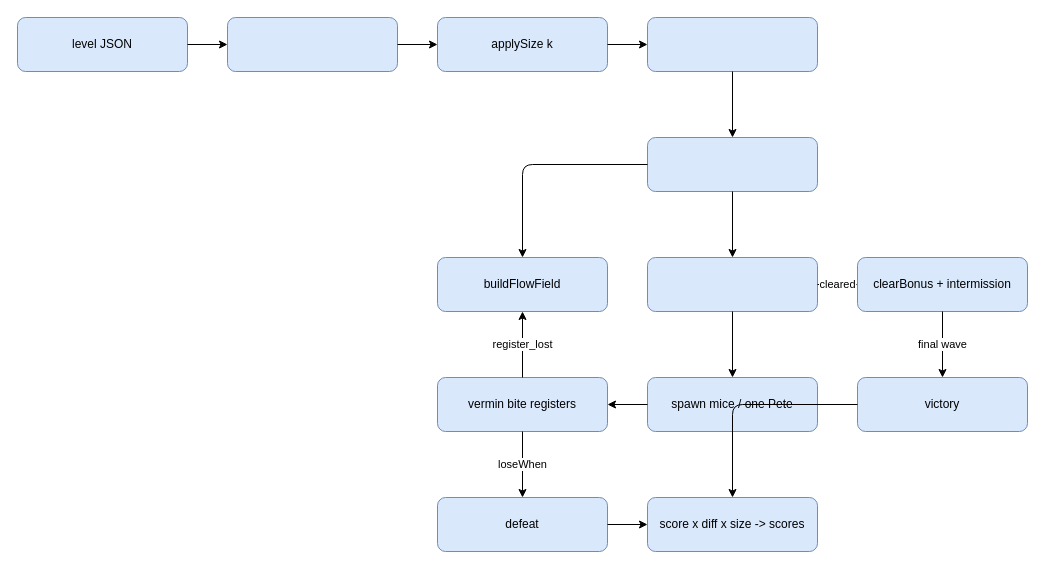
Image size: 1045x569. Some labels were removed from this diagram. Each missing label, with the centre of its shape:
applyDifficulty: the point at 732,44
createGame: the point at 732,164
validateLevel: the point at 312,44
wave scheduler: the point at 732,284
